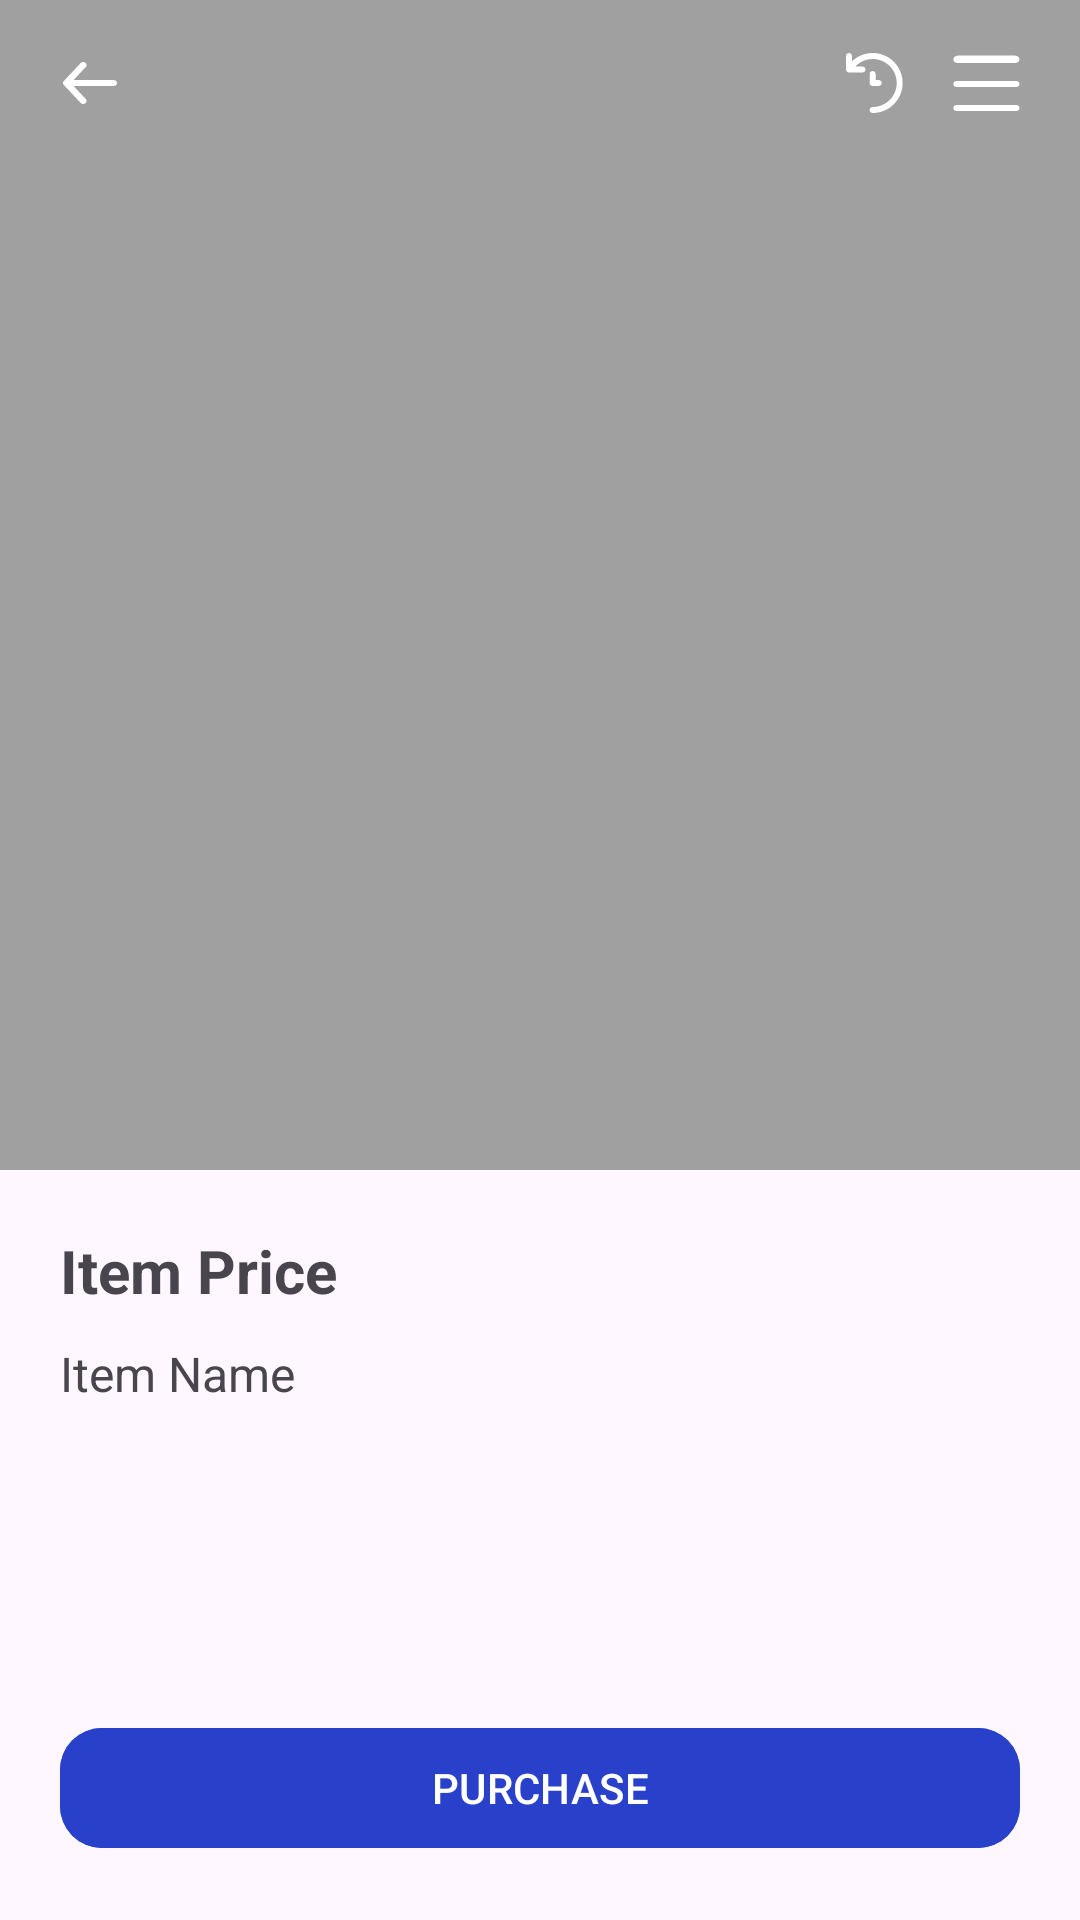

Screen size 1080px×1920px. Icon name, then its center in pixels as (x=x, y=y):
back: (x=90, y=83)
history: (x=874, y=83)
menu: (x=986, y=83)
